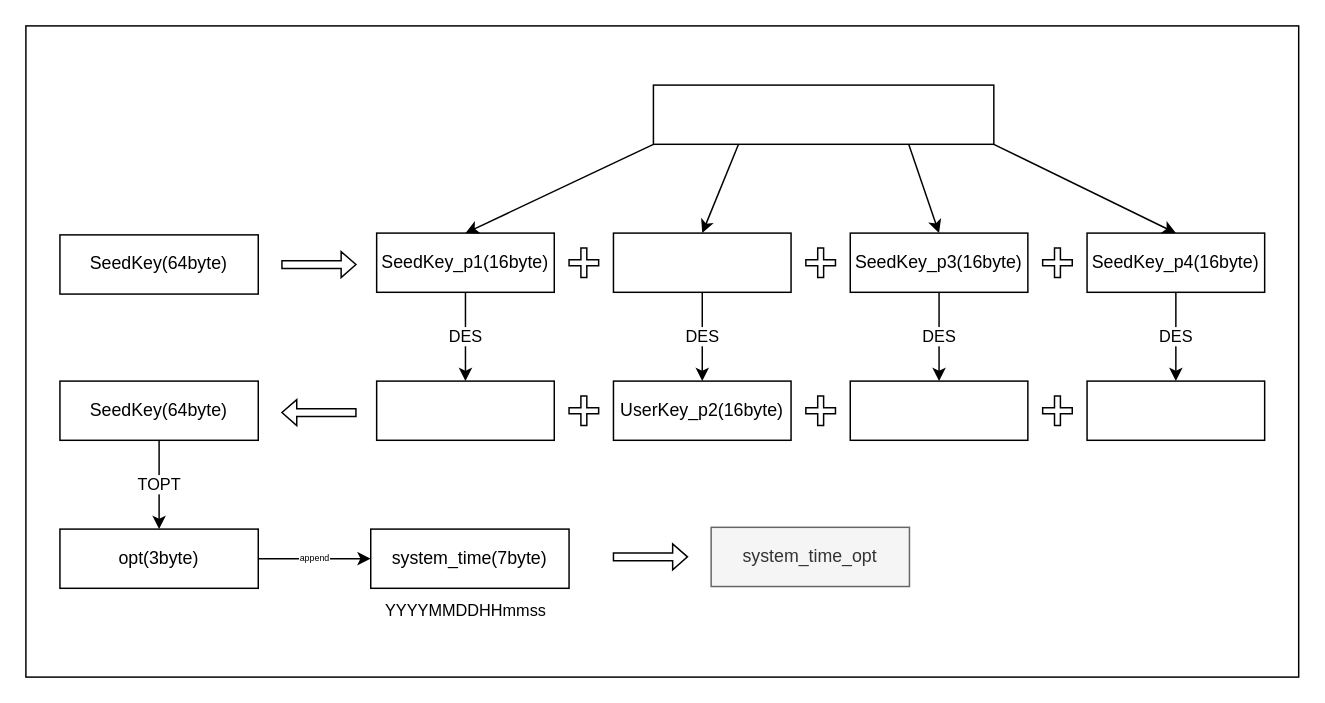
This 1325x703 diagram has some shape labels left out. Each missing label, with the centre of its shape:
IMEI: (x=823, y=114)
SeedKey_p2(16byte): (x=701, y=262)
UserKey_p1(16byte): (x=464, y=410)
UserKey_p3(16byte): (x=938, y=410)
UserKey_p4(16byte): (x=1175, y=410)
